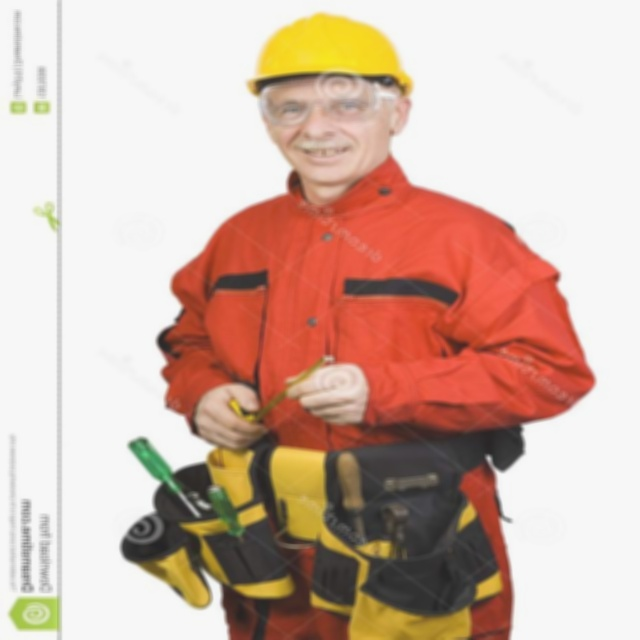Con_Casco: (247, 12, 409, 176)
